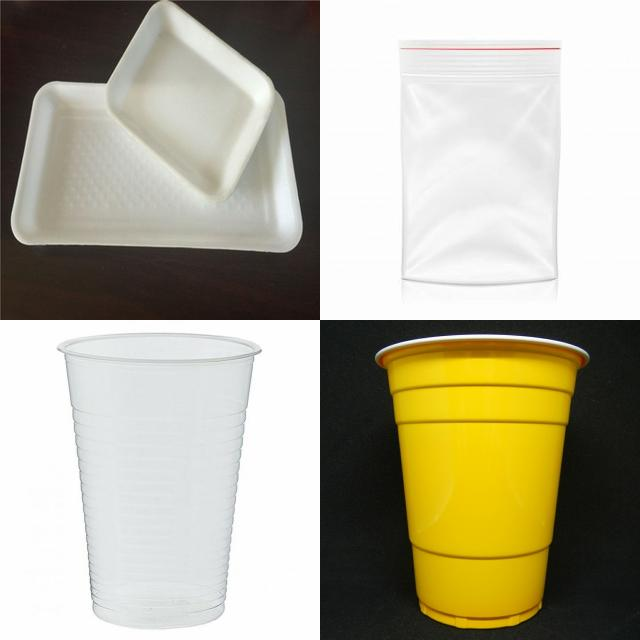Single-layer Plastic: (400, 48, 560, 284)
